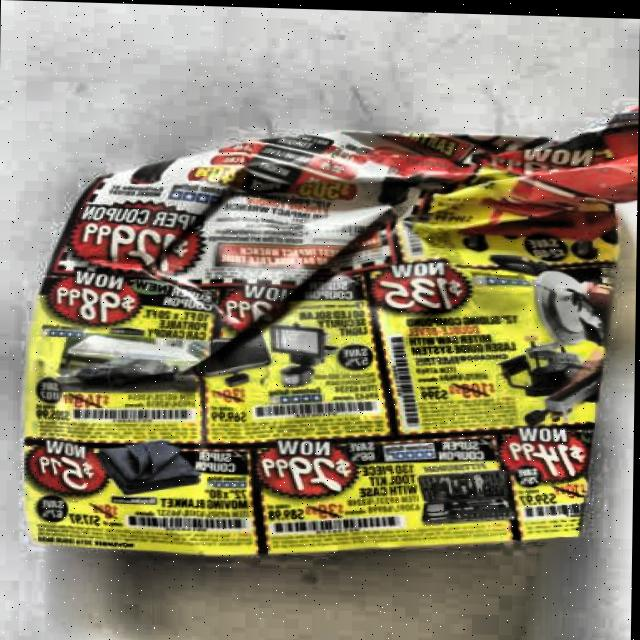paper: (19, 88, 639, 571)
